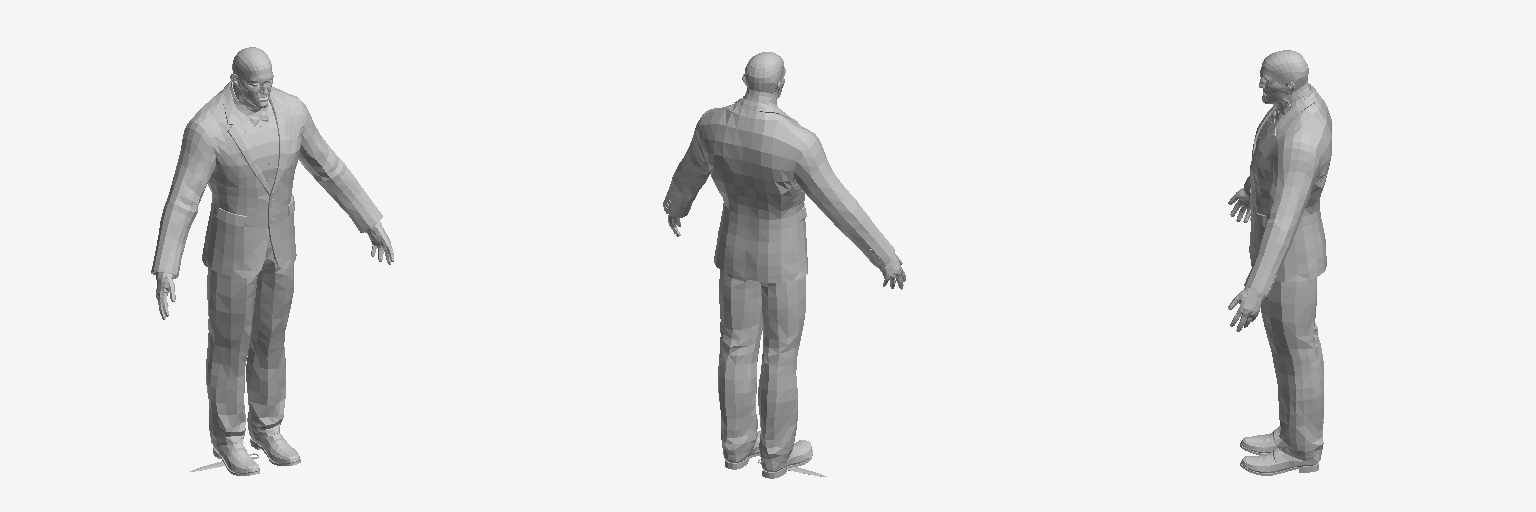
Rendered from Throwing_Knife.obj.
3 renders of one model, left to right at view 1: azimuth 30°, elevation 25°; view 2: azimuth 150°, elevation 25°; view 3: azimuth 270°, elevation 25°, orthographic.
Visible parts, largest first — view 1: doorman; view 2: doorman; view 3: doorman.
Part boxes in pixels (x1,y1,x2,y2): doorman: (151,47,393,475); doorman: (663,52,905,478); doorman: (1228,50,1331,475).
Size of the model in its own units: 3.62 by 6.11 by 1.42.